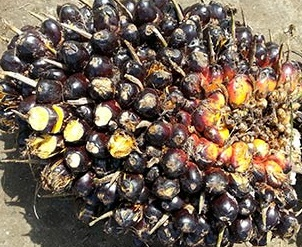PalmFruit: (7, 9, 298, 235)
